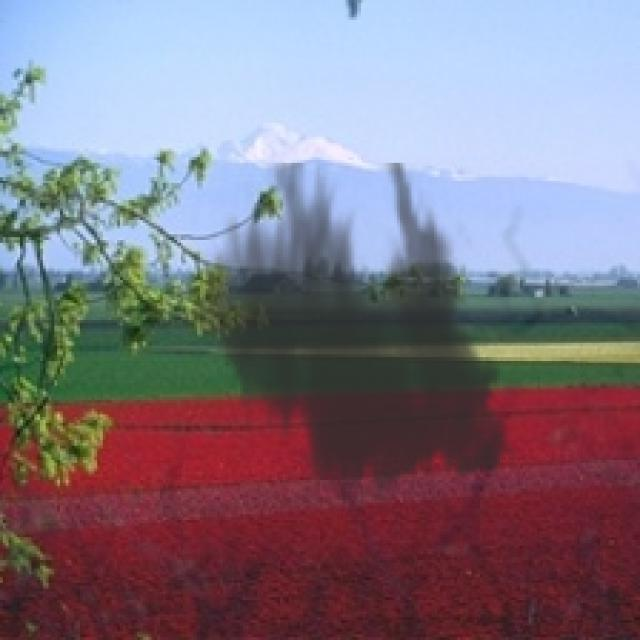Smoke: (183, 163, 526, 508)
